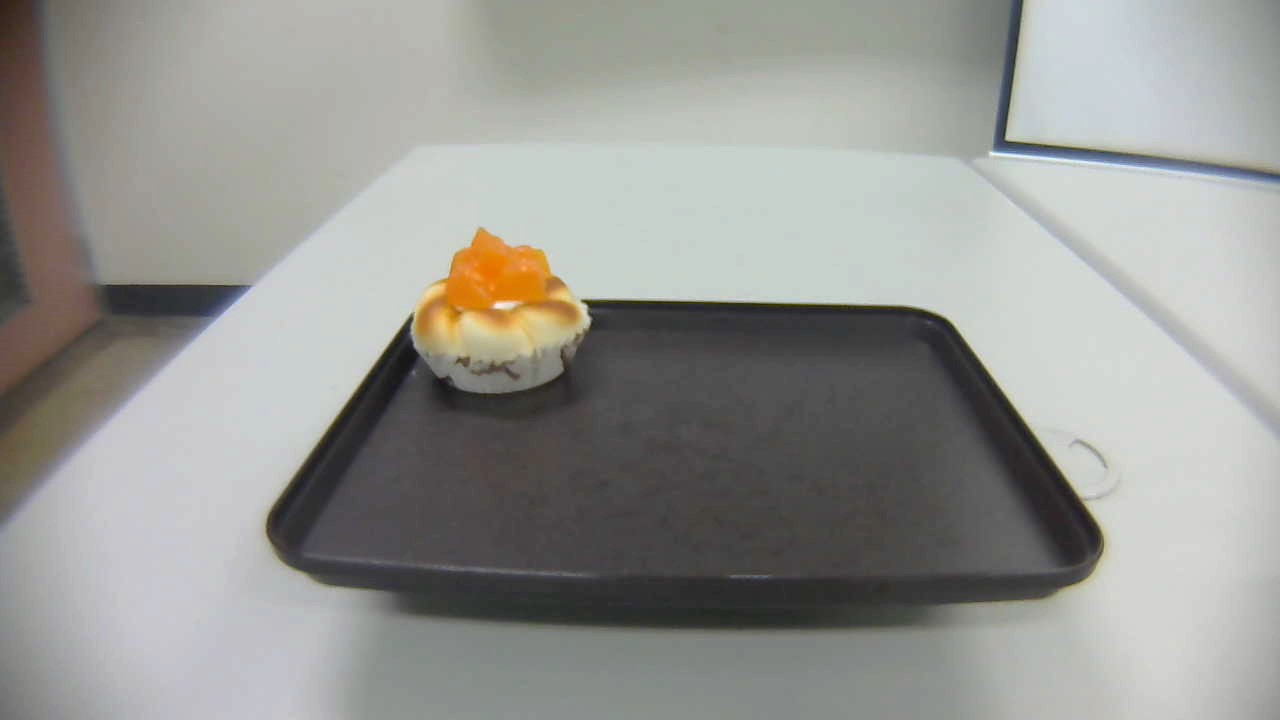mango tart: (408, 226, 594, 395)
